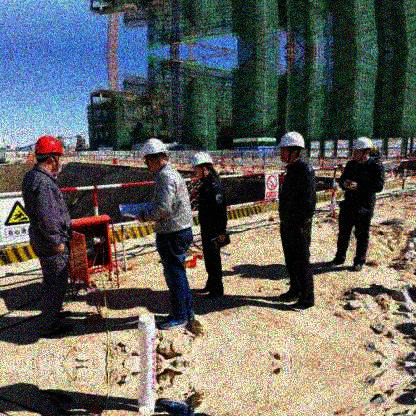helmet: (35, 134, 64, 172), (139, 137, 169, 170), (279, 130, 304, 161), (191, 150, 214, 180), (349, 137, 374, 160)
